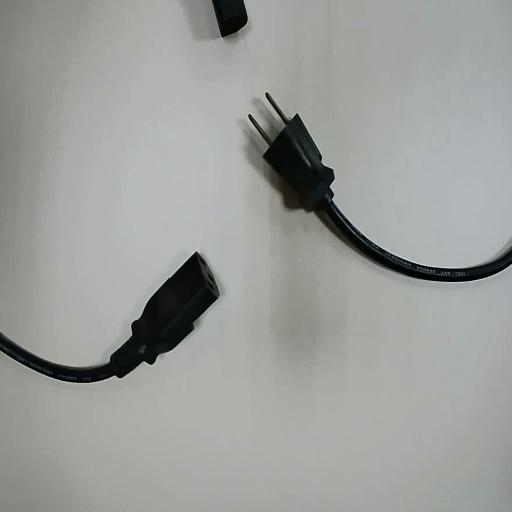wire: (250, 95, 511, 280), (0, 253, 216, 381)
